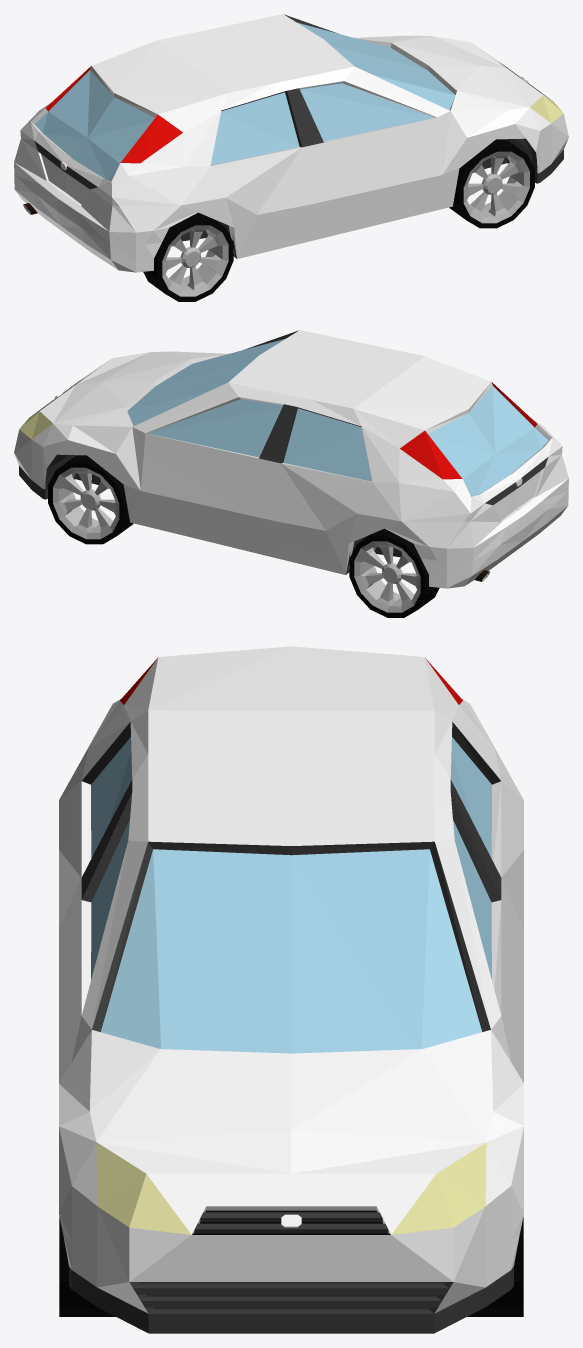
Rendered from car.glb.
The picture shows the model from 3 angles, top to bottom: view 1: azimuth 30°, elevation 25°; view 2: azimuth 150°, elevation 25°; view 3: azimuth 270°, elevation 25°; orthographic projection. The views are drawn at different scales.
Parts seen in each view (by area): view 1: Body, WheelR, WheelFR; view 2: Body, WheelR, WheelFL; view 3: Body, WheelFL, WheelFR.
Boxes of the visible parts, x1,y1,x2,y2 form: Body: (14,14,568,272); WheelR: (143,212,233,301); WheelFR: (449,139,534,228); Body: (14,330,568,588); WheelR: (349,528,439,617); WheelFL: (48,455,133,544); Body: (59,646,523,1333); WheelFL: (467,1217,523,1316); WheelFR: (59,1217,115,1316).
Bounding box in the file's own units: 4.29 × 1.56 × 1.83.
